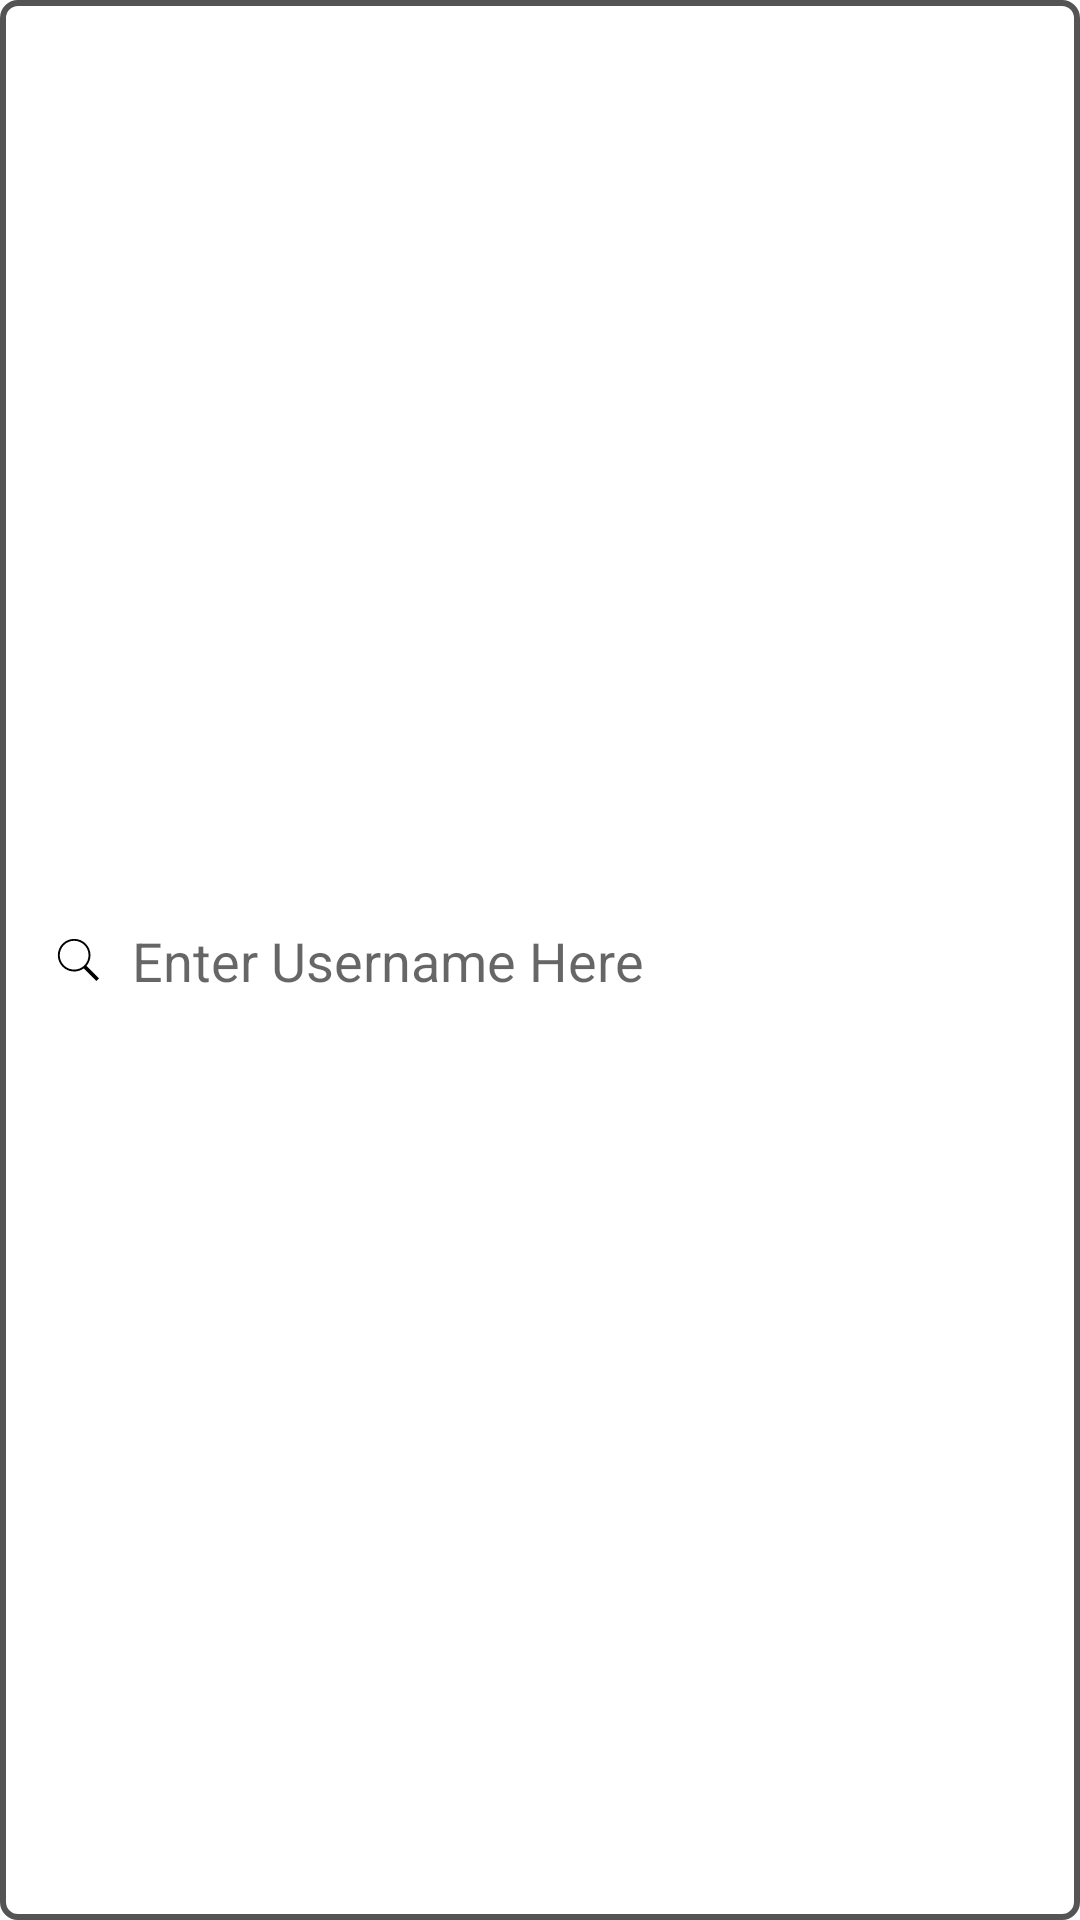

Named icons in this screenshot (1080 × 1920) and their centers, point (x, y):
Search Icon: point (78, 960)
